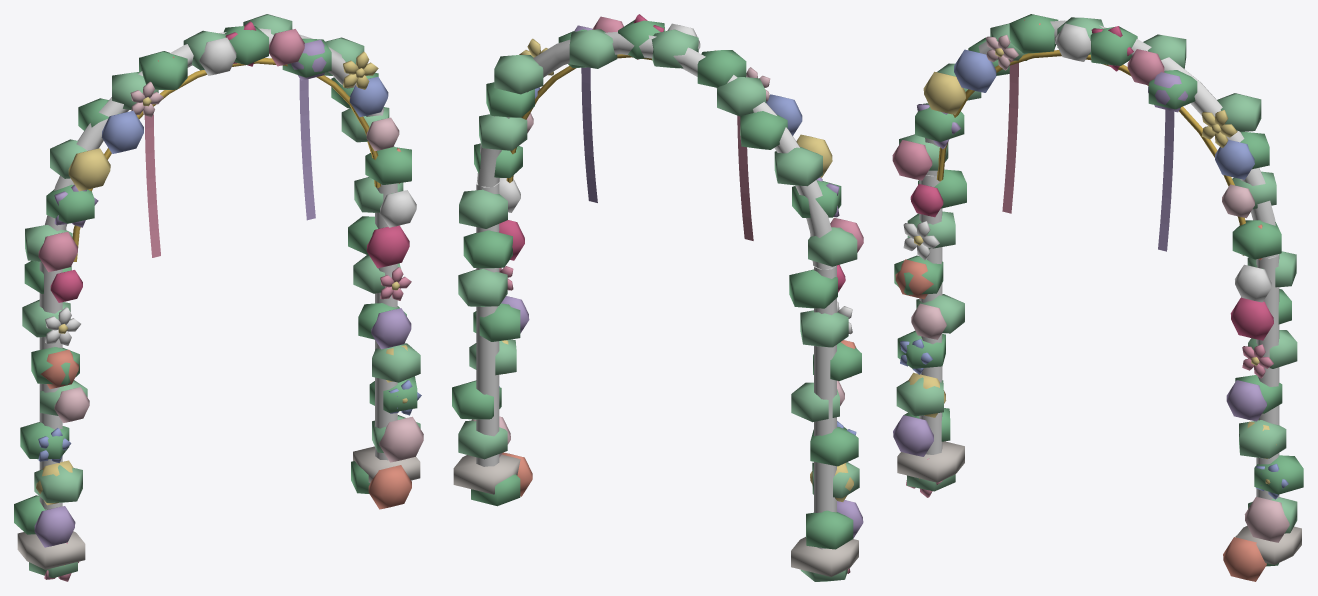
File: solstice_flower_arch.gltf
3 renders of one model, left to right at view 1: azimuth 30°, elevation 25°; view 2: azimuth 150°, elevation 25°; view 3: azimuth 330°, elevation 25°, orthographic.
Visible parts, largest first — view 1: solstice_flower_arch; view 2: solstice_flower_arch; view 3: solstice_flower_arch.
Boxes of the visible parts, bbox=[...] form: solstice_flower_arch: bbox=[14, 14, 423, 581]; solstice_flower_arch: bbox=[452, 14, 863, 581]; solstice_flower_arch: bbox=[892, 14, 1303, 581].
Size of what is drawn, in the model's own units: 3.06 by 3.8 by 0.56.
